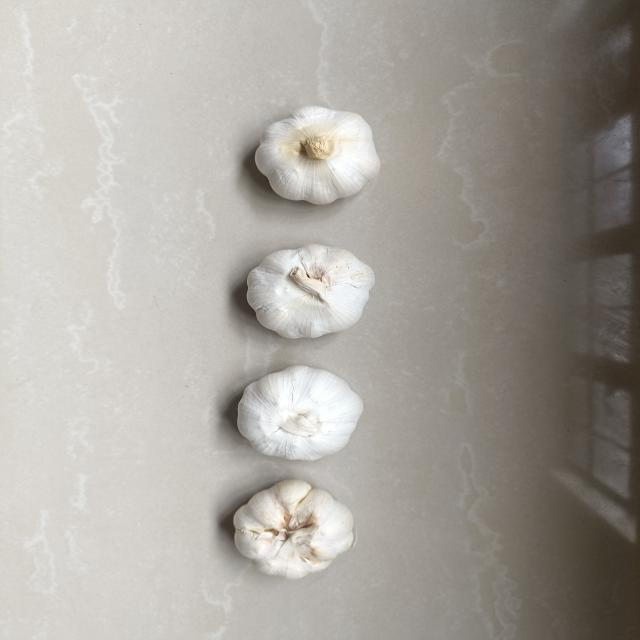garlic: (240, 240, 382, 343), (250, 105, 388, 209), (231, 363, 366, 469), (226, 476, 359, 581)
